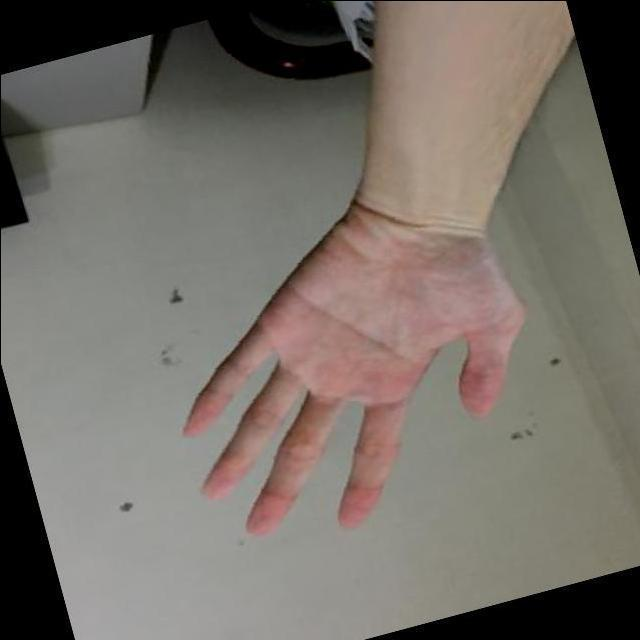hand: (168, 170, 541, 545)
